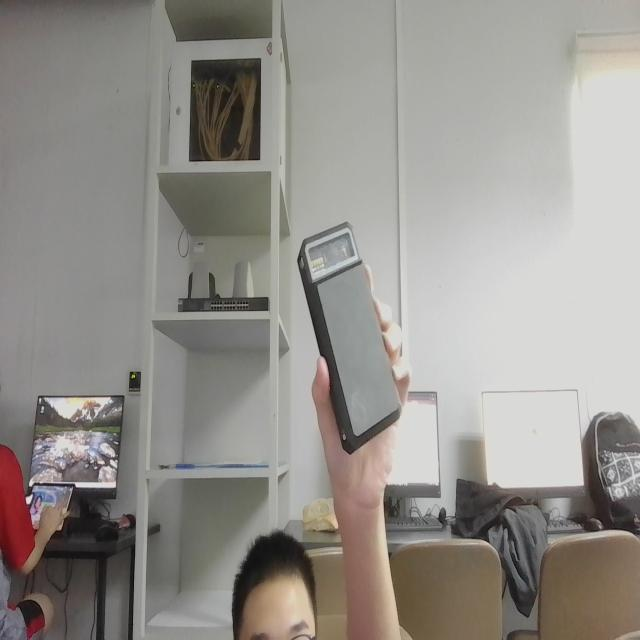power bank: (293, 217, 405, 459)
